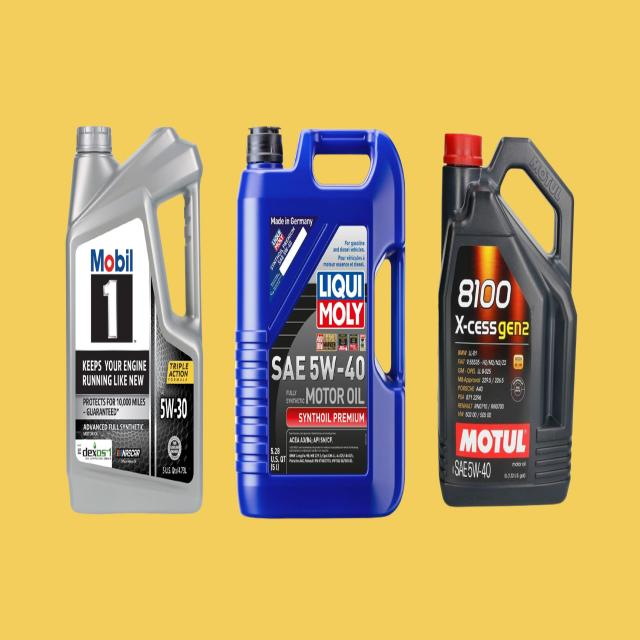motor_oil: (233, 120, 408, 525), (63, 114, 207, 524), (438, 125, 581, 509)
